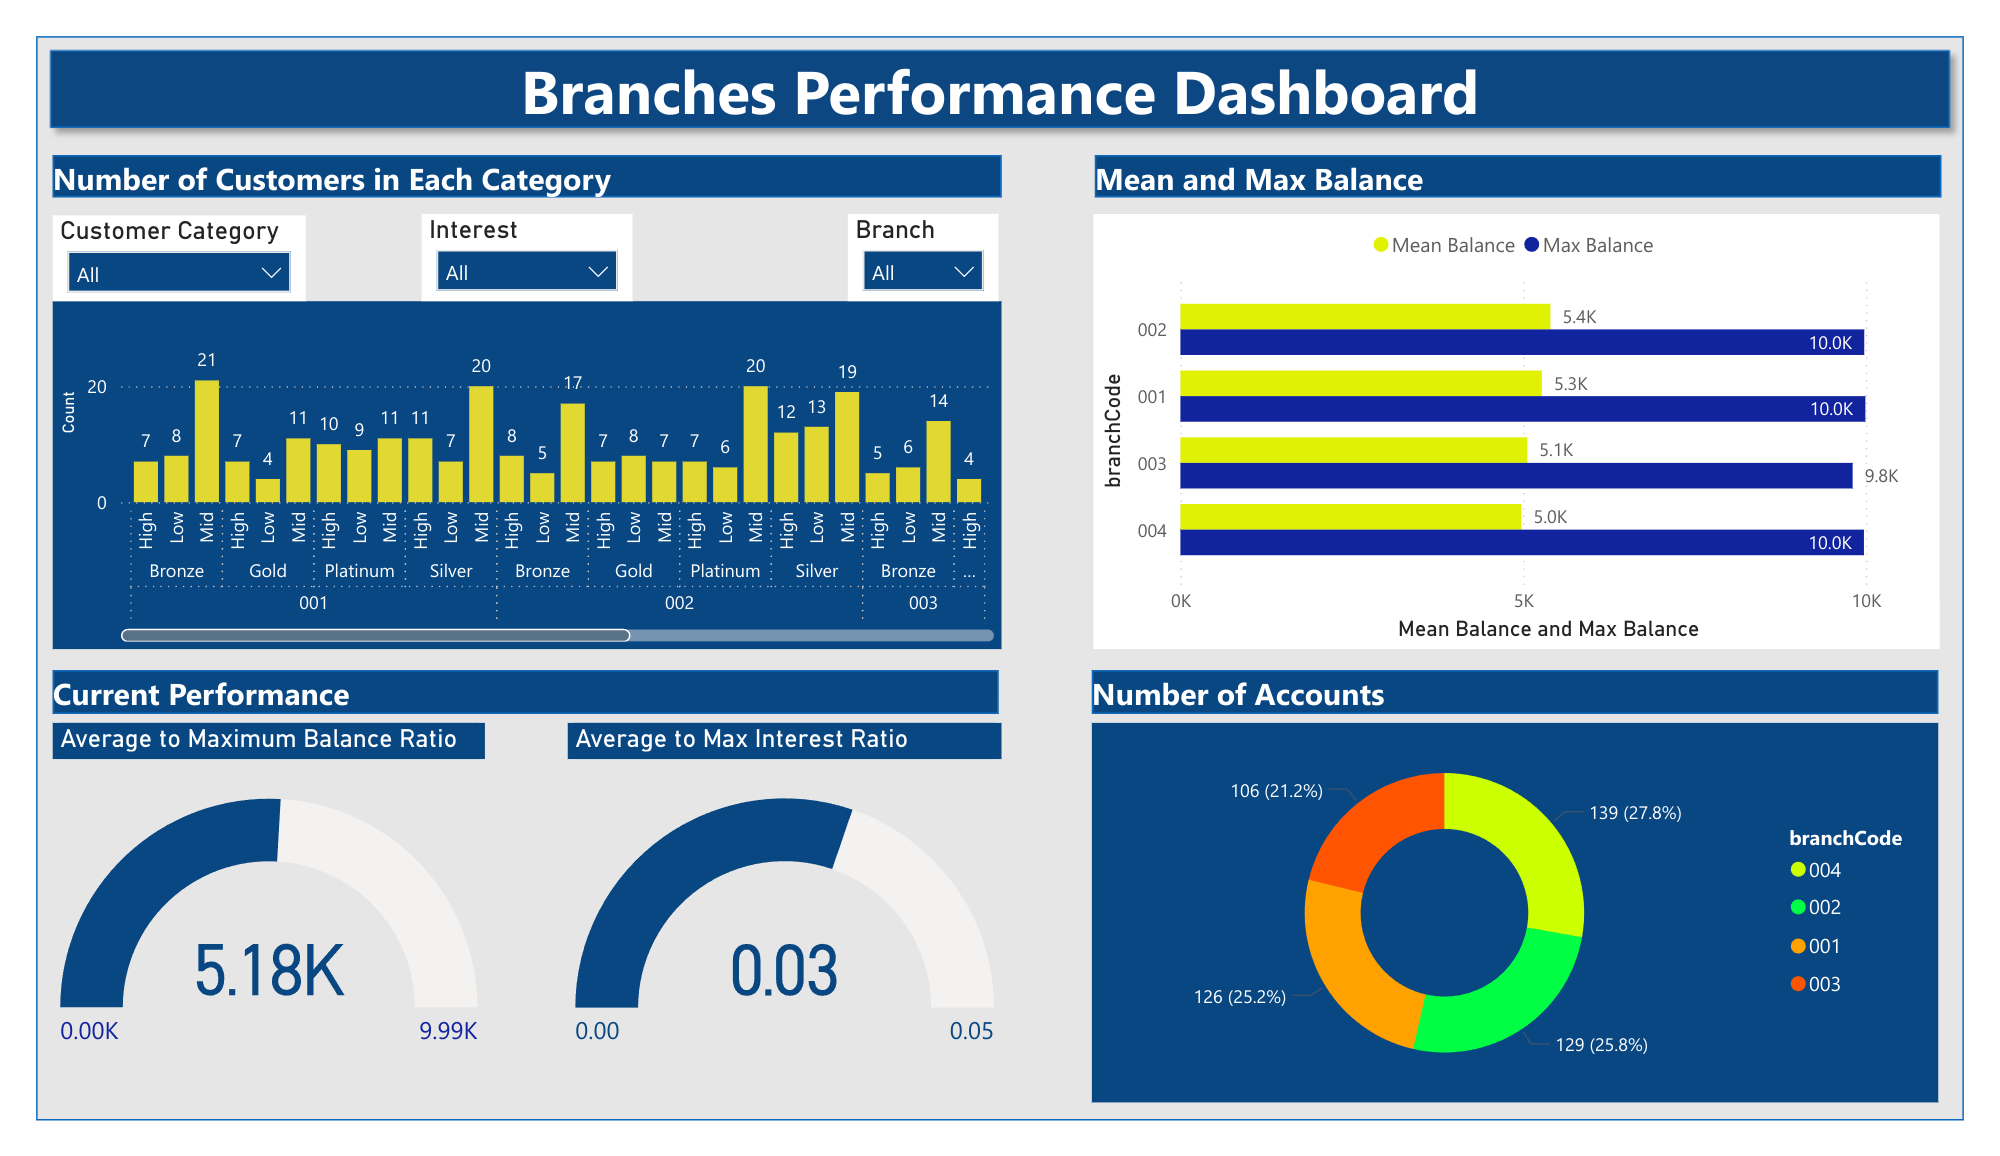

What the dashboard file says about the page in this screenshot:
{"tool":"powerbi","page":{"name":"Page 2","canvas":[1280,720],"ordinal":1},"visuals":[{"type":"shape","box":[0,0,1280.3,720.1],"z":0},{"type":"shape","box":[0,0,1280.3,69.9],"z":1000},{"type":"shape","box":[10.7,79.3,630.1,28.2],"z":2000},{"type":"shape","box":[702.6,118.2,561.5,252.6],"z":3000},{"type":"donutChart","title":"# Customers Per Branch","fields":{"Category":["Accounts.branchCode"],"Y":["Accounts.Count"]},"box":[700.9,456,562.2,252.1],"z":4000},{"type":"clusteredBarChart","fields":{"Category":["Accounts.branchCode"],"Y":["Accounts.Mean Balance","Accounts.Max Balance"]},"box":[702.1,118.2,562.2,288.3],"z":5000},{"type":"clusteredColumnChart","fields":{"Category":["Accounts.branchCode","Accounts.Balance Category","Accounts.Interest Rate Category"],"Y":["Accounts.Count"]},"box":[10.9,176.1,629.8,230.4],"z":6000},{"type":"shape","box":[702.6,79.3,562.9,28.2],"z":7000},{"type":"shape","box":[700.9,421,562.2,29],"z":8000},{"type":"slicer","title":"Customer Category","fields":{"Values":["Accounts.Balance Category"]},"box":[10.9,119.4,167.7,56.7],"z":9000},{"type":"slicer","title":"Interest","fields":{"Values":["Accounts.Interest Rate Category"]},"box":[255.8,118.2,139.9,57.9],"z":10000},{"type":"slicer","title":"Branch","fields":{"Values":["Accounts.branchCode"]},"box":[539.3,118.2,100.1,57.9],"z":11000},{"type":"shape","box":[10.9,421,628.6,29],"z":12000},{"type":"gauge","title":"Average to Maximum Balance Ratio","fields":{"Y":["Accounts.Mean Balance"],"MaxValue":["Accounts.Max Balance"]},"box":[10.9,456,287.1,252.1],"z":13000},{"type":"gauge","title":"Average to Max Interest Ratio","fields":{"Y":["Accounts.Mean Interest Rate"],"MaxValue":["Accounts.Max Interest"]},"box":[353.5,456,287.1,252.1],"z":14000}]}

Visuals, with their boxes in screenshot pixels (x1, y1, x2, y2), scaled from the page's 1280x720 canvas onto the 2000x1156 screenshot:
shape: x1=0 y1=0 x2=1999 y2=1155
shape: x1=0 y1=0 x2=1999 y2=112
shape: x1=17 y1=127 x2=1001 y2=173
shape: x1=1098 y1=190 x2=1975 y2=595
"# Customers Per Branch" donutChart: x1=1095 y1=732 x2=1974 y2=1137
clusteredBarChart - Accounts.branchCode x Accounts.Mean Balance: x1=1097 y1=190 x2=1975 y2=653
clusteredColumnChart - Accounts.branchCode x Accounts.Balance Category: x1=17 y1=283 x2=1001 y2=653
shape: x1=1098 y1=127 x2=1977 y2=173
shape: x1=1095 y1=676 x2=1974 y2=722
"Customer Category" slicer: x1=17 y1=192 x2=279 y2=283
"Interest" slicer: x1=400 y1=190 x2=618 y2=283
"Branch" slicer: x1=843 y1=190 x2=999 y2=283
shape: x1=17 y1=676 x2=999 y2=722
"Average to Maximum Balance Ratio" gauge: x1=17 y1=732 x2=466 y2=1137
"Average to Max Interest Ratio" gauge: x1=552 y1=732 x2=1001 y2=1137
